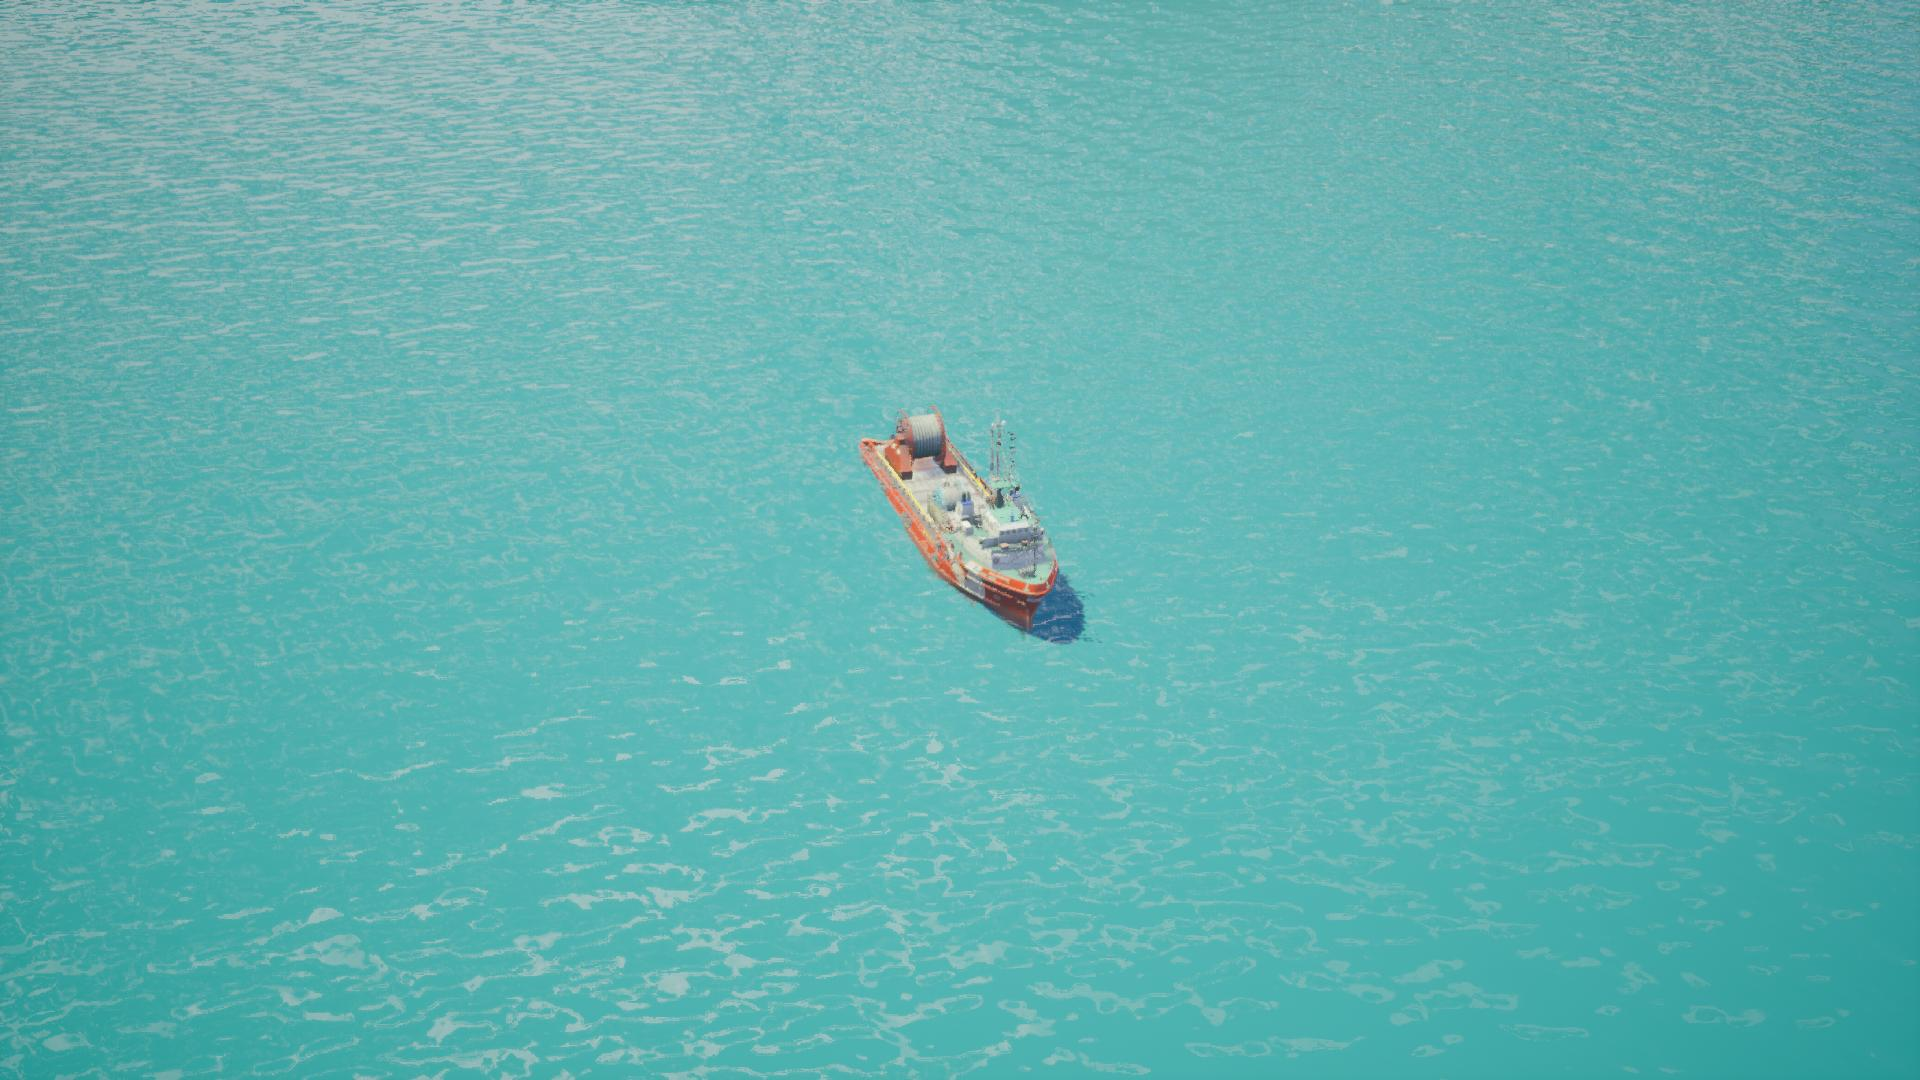Tug Boat: (840, 332, 1126, 738)
